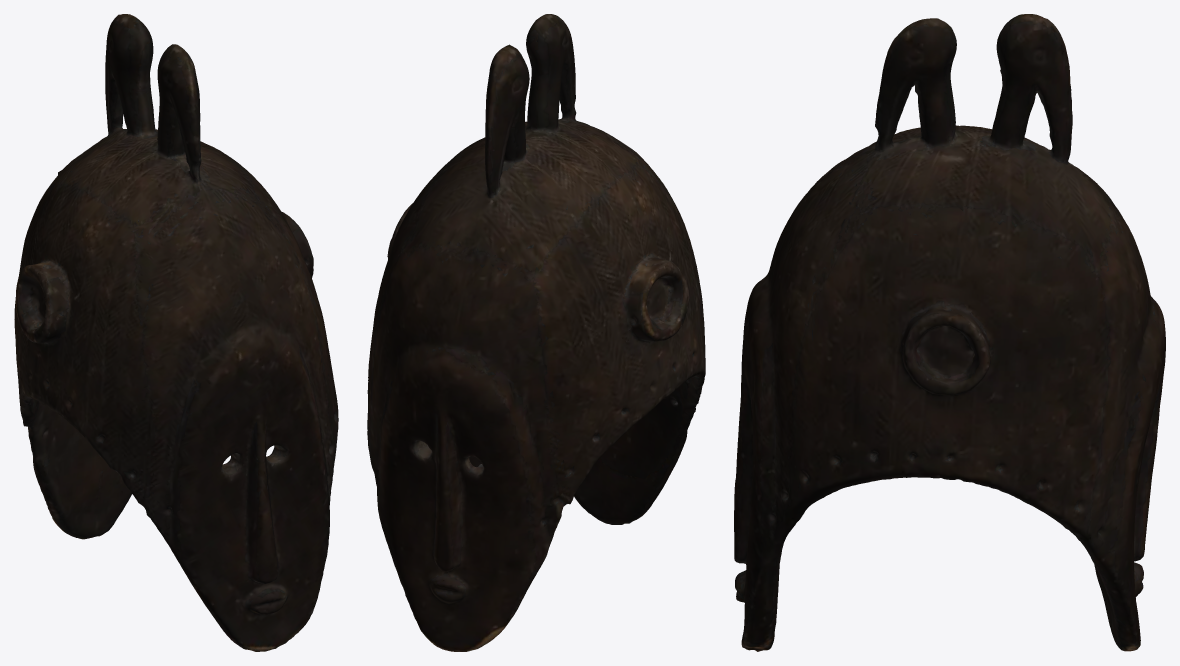
Rendered from preview.glb.
3 views of the same model, side by side, from view 1: azimuth 30°, elevation 25°; view 2: azimuth 150°, elevation 25°; view 3: azimuth 270°, elevation 25° (orthographic). The views are drawn at different scales.
Parts seen in each view (by area): view 1: Object_2; view 2: Object_2; view 3: Object_2.
Boxes of the visible parts, x1,y1,x2,y2 form: Object_2: [14, 14, 338, 651]; Object_2: [367, 14, 705, 651]; Object_2: [734, 14, 1165, 651].
Bounding box in the file's own units: 227 × 444 × 276.
1 material, 1 textured.
